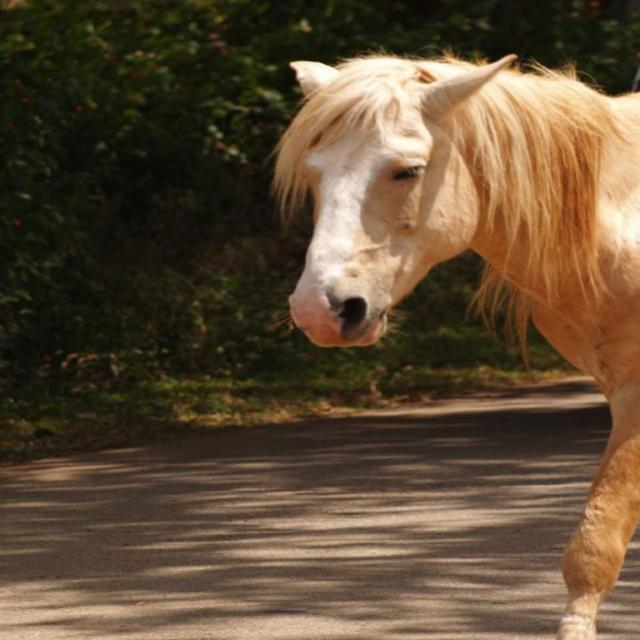Horse: (268, 51, 639, 639)
